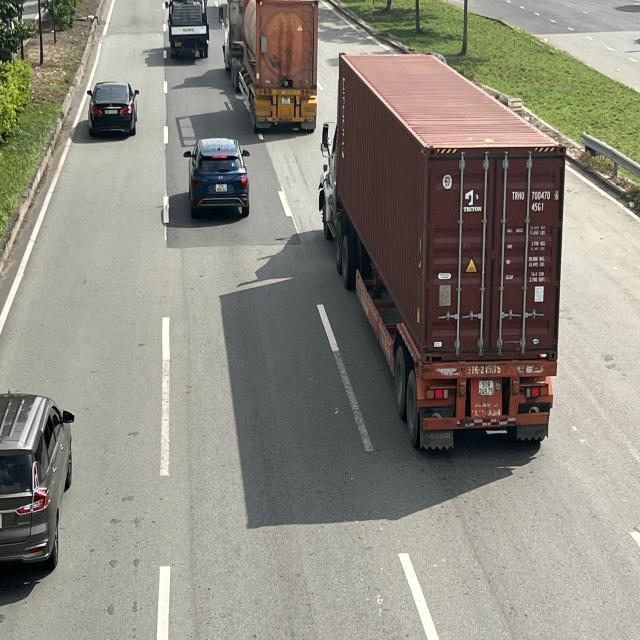car: (184, 136, 250, 217), (87, 80, 140, 137)
container: (318, 52, 566, 450), (220, 0, 318, 131)
truck: (166, 0, 210, 57)
